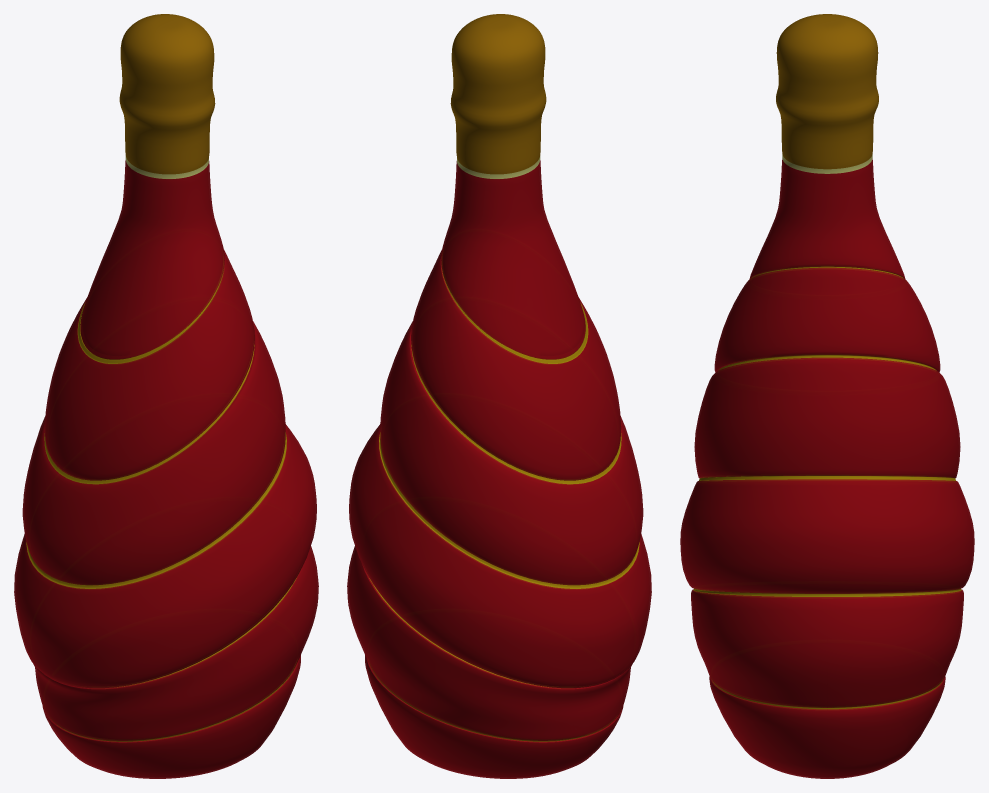
Rendered from Wine.fbx.
3 views of the same model, side by side, from view 1: azimuth 30°, elevation 25°; view 2: azimuth 150°, elevation 25°; view 3: azimuth 270°, elevation 25° (orthographic).
Visible parts, largest first — view 1: Bottle6; view 2: Bottle6; view 3: Bottle6.
Boxes of the visible parts, x1=… form: Bottle6: x1=14, y1=14, x2=318, y2=778; Bottle6: x1=347, y1=14, x2=651, y2=778; Bottle6: x1=680, y1=14, x2=974, y2=778.
Bounding box in the file's own units: 128 × 329 × 122.
